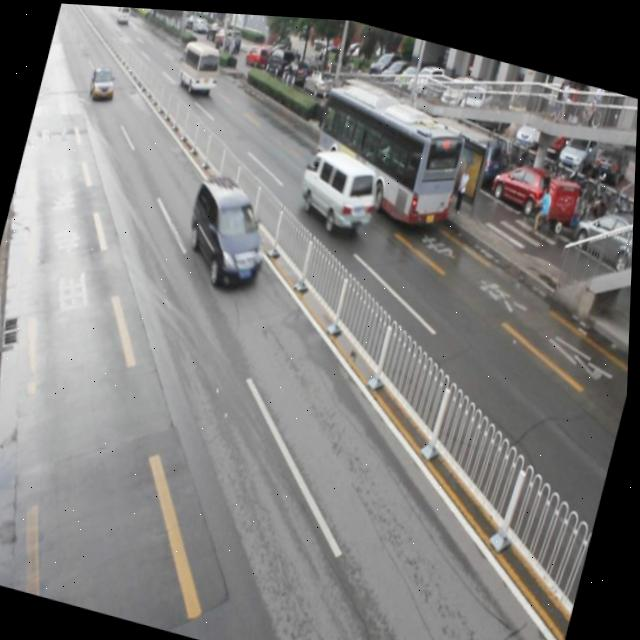truck: (178, 166, 280, 291), (292, 137, 386, 234), (176, 32, 225, 93)
van: (304, 78, 472, 230)
